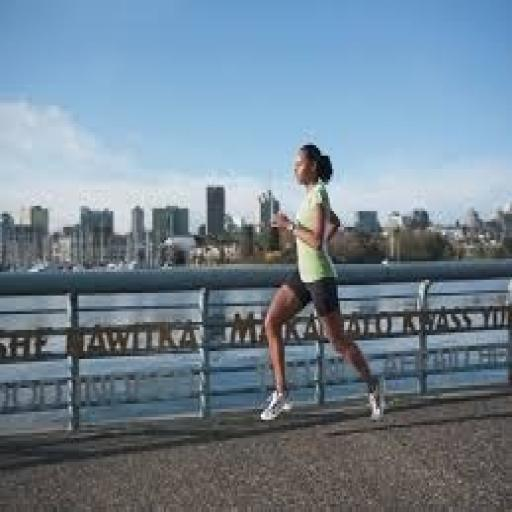running: (255, 137, 391, 428)
